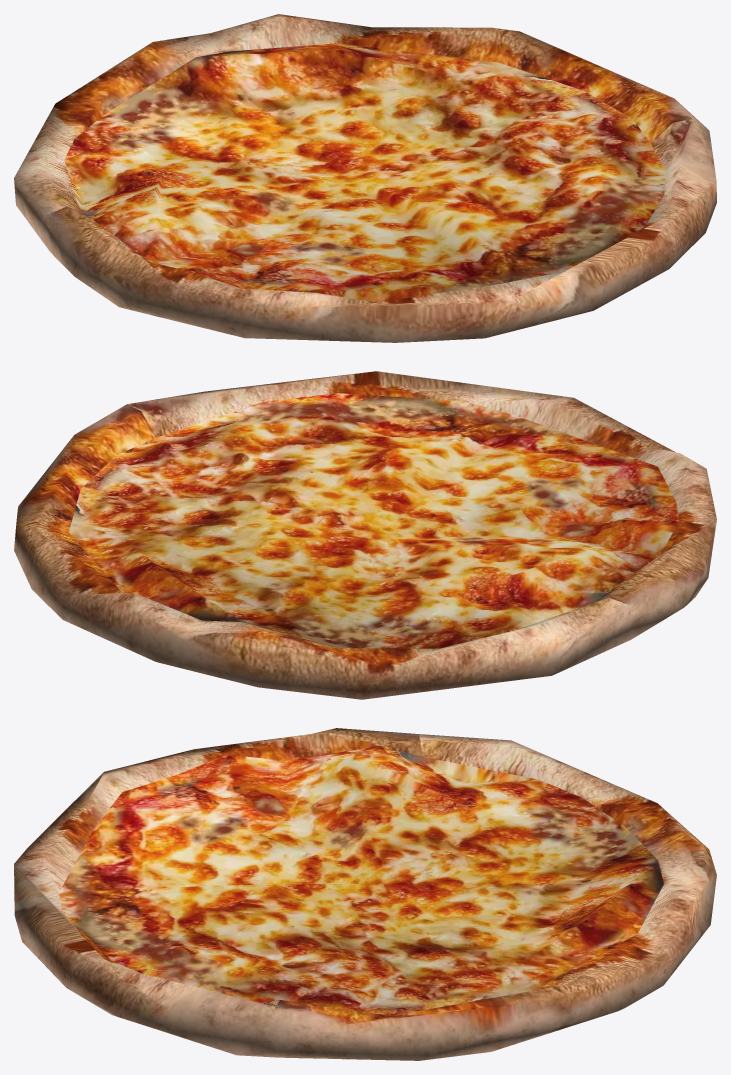
The model's file is hero-dish.glb.
3 views of the same model, one above another, from view 1: azimuth 30°, elevation 25°; view 2: azimuth 150°, elevation 25°; view 3: azimuth 270°, elevation 25° (orthographic).
Parts seen in each view (by area): view 1: Object_4; view 2: Object_4; view 3: Object_4.
Part boxes in pixels (left/top/right/bottom): Object_4: left=14, top=14, right=716, bottom=342; Object_4: left=14, top=371, right=716, bottom=699; Object_4: left=14, top=728, right=716, bottom=1060.
Size of the model in its own units: 48.62 by 4.88 by 48.77.
1 material, 1 textured.
